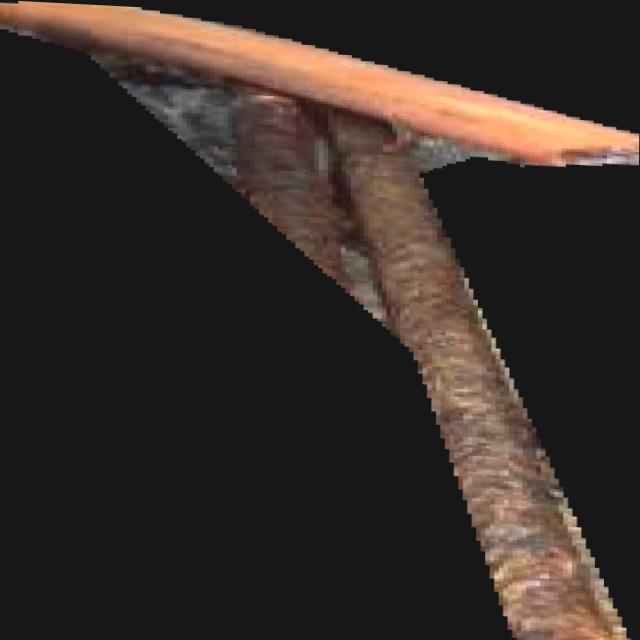Uniform Corrosion: (0, 1, 639, 640)
